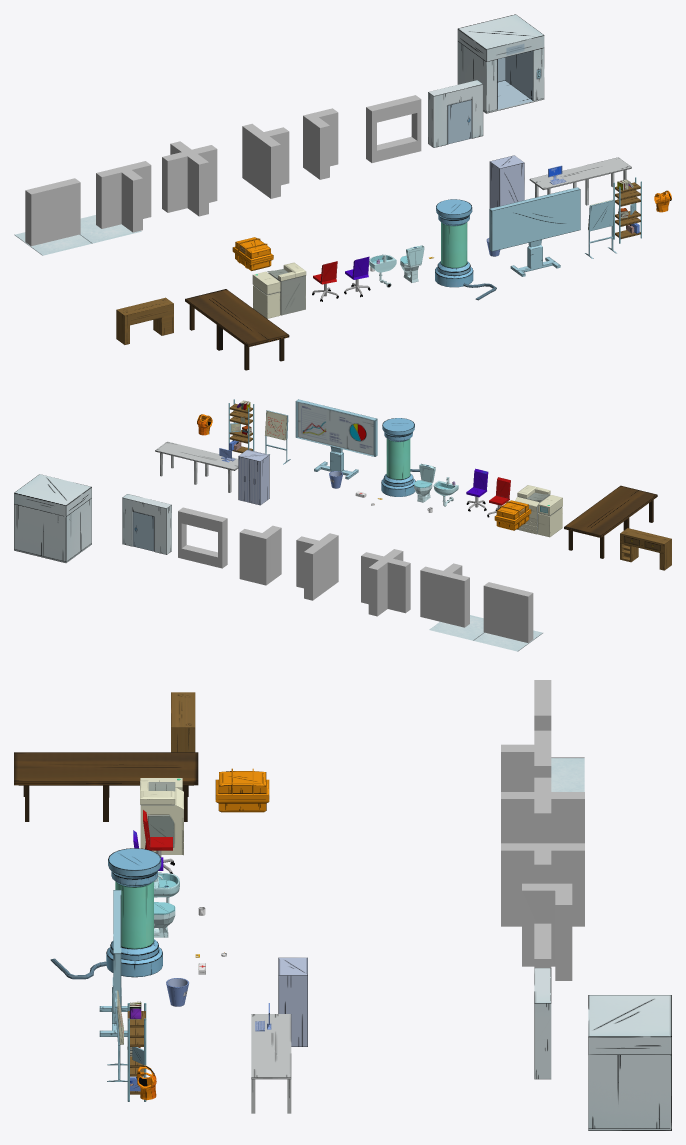
File: modellen3d.fbx
3 views of the same model, one above another, from view 1: azimuth 30°, elevation 25°; view 2: azimuth 150°, elevation 25°; view 3: azimuth 270°, elevation 25° (orthographic). The views are drawn at different scales.
Visible parts, largest first — view 1: lift, digiboard, crosswall, table, wonderwall, wall, wonderwallpoint2, tank1, windowwall, printer1, doorwall, cornerwall (+10 smaller); view 2: lift, digiboard, crosswall, wonderwall, table, wall, wonderwallpoint2, cornerwall, tank1, windowwall, doorwall, printer1 (+11 smaller); view 3: lift, table, tank1, wonderwallpoint2, crosswall, cornerwall, labtable, printer1, wonderwall, kast1, ammopack1, doorwall (+5 smaller).
Part boxes in pixels (x1,y1,x2,y2): lift: [457, 14, 544, 113]; digiboard: [489, 187, 580, 276]; crosswall: [162, 141, 217, 216]; table: [185, 289, 289, 370]; wonderwall: [96, 161, 151, 232]; wall: [25, 178, 80, 246]; wonderwallpoint2: [242, 123, 289, 198]; tank1: [435, 199, 473, 287]; windowwall: [366, 95, 421, 162]; printer1: [252, 262, 306, 318]; doorwall: [428, 80, 483, 147]; cornerwall: [303, 108, 338, 179]; lift: [14, 474, 91, 562]; digiboard: [295, 399, 377, 479]; crosswall: [361, 549, 410, 616]; wonderwall: [420, 563, 469, 627]; table: [564, 485, 657, 558]; wall: [483, 582, 533, 642]; wonderwallpoint2: [296, 533, 338, 600]; cornerwall: [239, 525, 281, 585]; tank1: [381, 418, 415, 496]; windowwall: [178, 507, 227, 568]; doorwall: [122, 494, 171, 554]; printer1: [515, 485, 562, 537]; lift: [588, 995, 671, 1130]; table: [14, 752, 198, 821]; tank1: [106, 848, 162, 977]; wonderwallpoint2: [501, 843, 584, 926]; crosswall: [501, 777, 584, 843]; cornerwall: [522, 883, 572, 980]; labtable: [251, 1014, 291, 1113]; printer1: [140, 778, 183, 855]; wonderwall: [501, 730, 551, 791]; kast1: [278, 957, 307, 1046]; ammopack1: [215, 768, 269, 812]; doorwall: [534, 968, 551, 1079].
Size of the model in its own units: 22.67 by 2.96 by 15.69.
